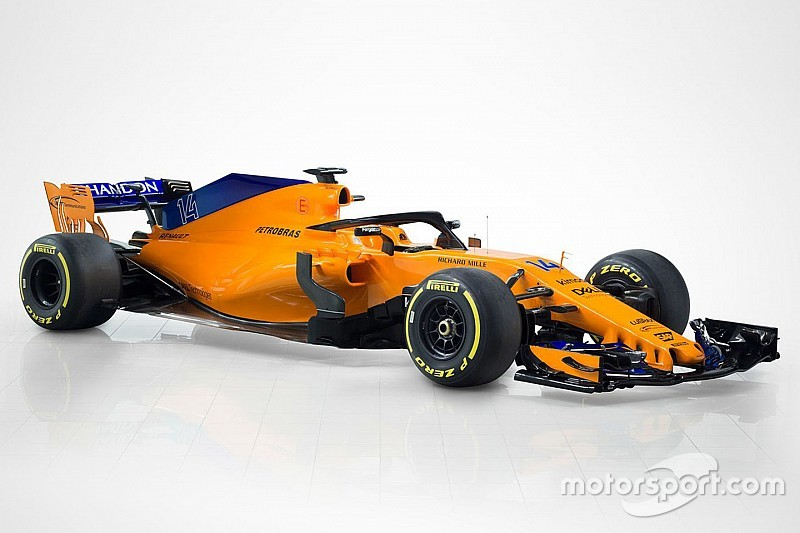f1_car: (12, 157, 789, 407)
